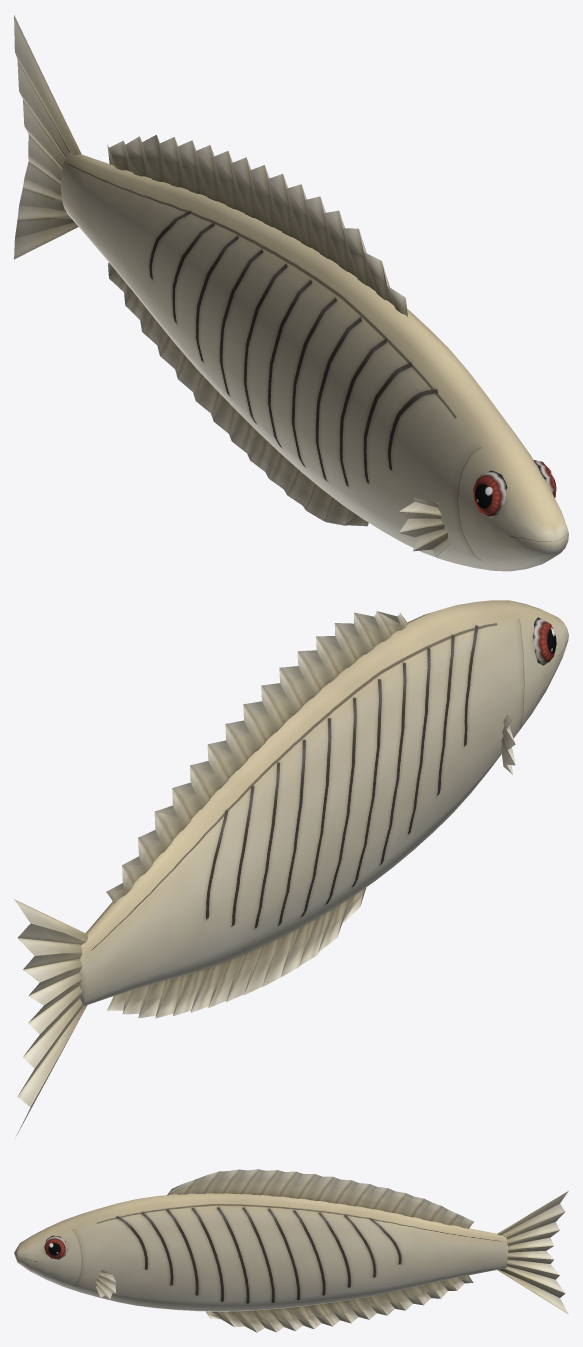
The model's file is ribfish.glb.
3 views of the same model, one above another, from view 1: azimuth 30°, elevation 25°; view 2: azimuth 150°, elevation 25°; view 3: azimuth 270°, elevation 25° (orthographic). The views are drawn at different scales.
Parts seen in each view (by area): view 1: ribfish; view 2: ribfish; view 3: ribfish.
Part boxes in pixels (x1,y1,x2,y2): ribfish: (14, 15, 568, 571); ribfish: (14, 600, 568, 1137); ribfish: (14, 1169, 568, 1332).
Size of the model in its own units: 0.1225 by 0.325 by 1.
1 material, 1 textured.
